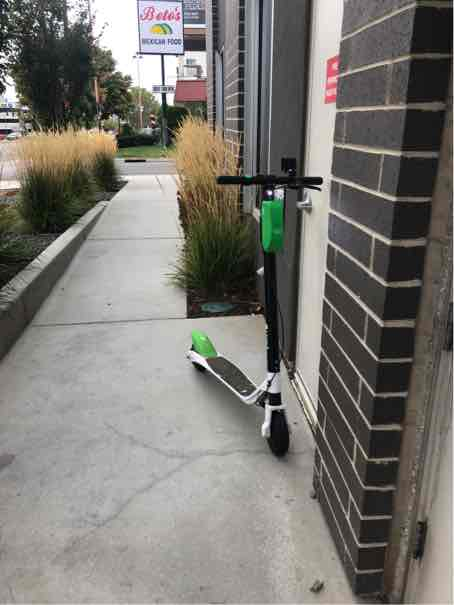scooter: (181, 159, 309, 472)
